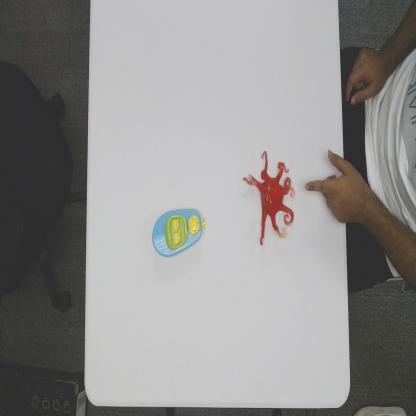Boat: (151, 206, 207, 261)
Hand: (304, 150, 368, 228)
Octopus: (243, 148, 295, 247)
